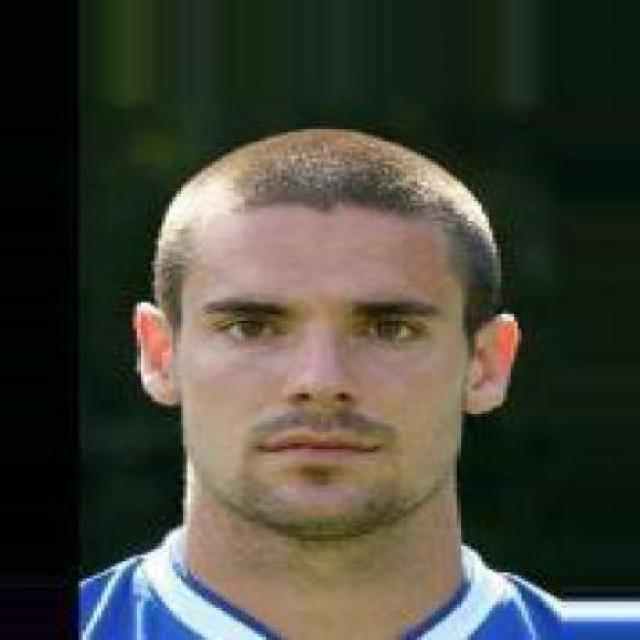closed-mouth: (252, 430, 380, 470)
